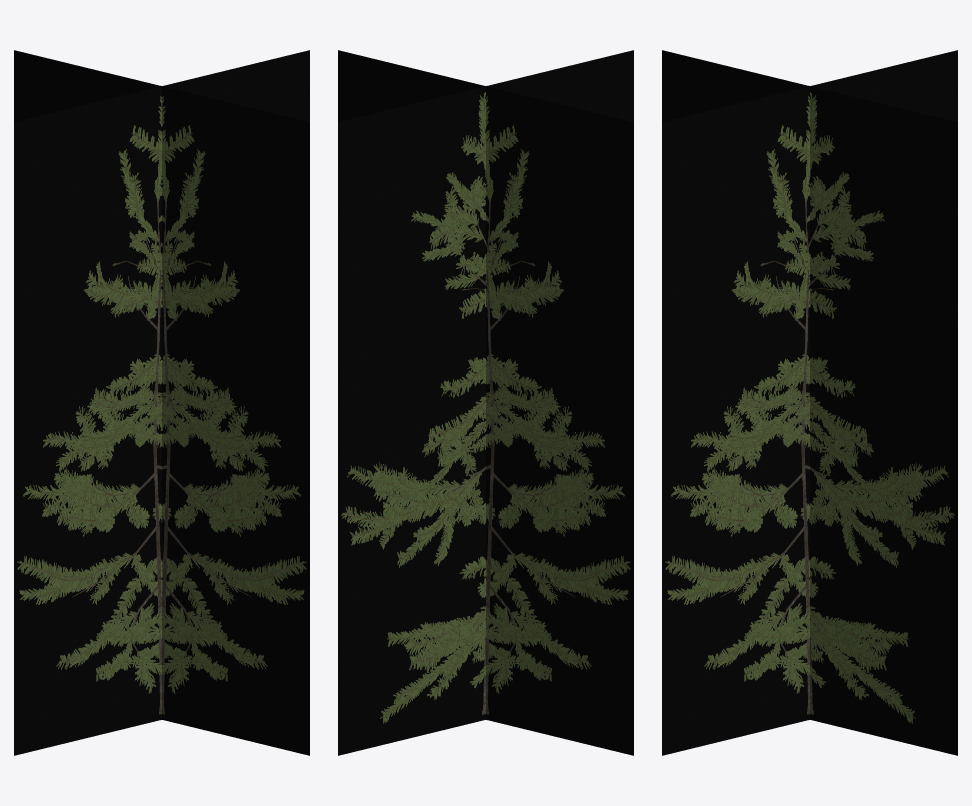
Rendered from pino_lontano.glb.
The picture shows the model from 3 angles, left to right: view 1: azimuth 30°, elevation 25°; view 2: azimuth 150°, elevation 25°; view 3: azimuth 270°, elevation 25°; orthographic projection.
Parts seen in each view (by area): view 1: pino_lontano; view 2: pino_lontano; view 3: pino_lontano.
Part boxes in pixels (x1,y1,x2,y2): pino_lontano: (14, 50, 309, 755); pino_lontano: (338, 50, 633, 755); pino_lontano: (662, 50, 957, 755).
Size of the model in its own units: 6.5 by 13.3 by 5.63.
1 material, 1 textured.
